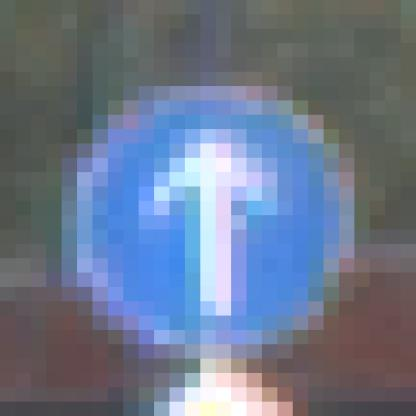AheadOnly: (78, 87, 340, 345)
